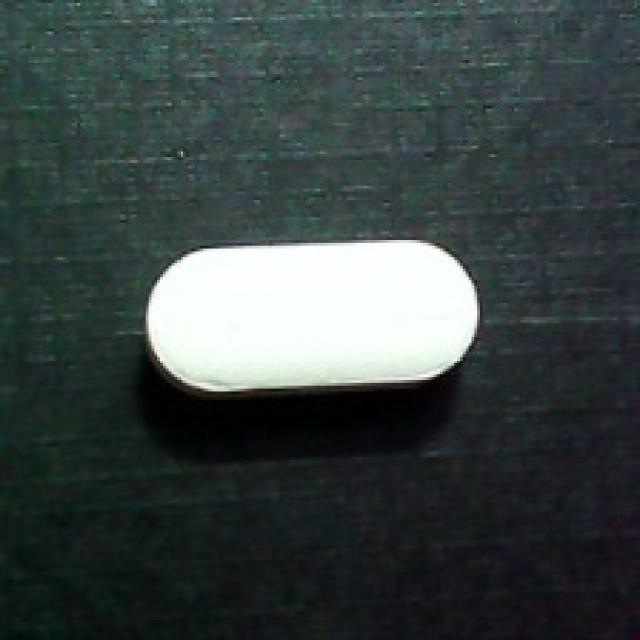no-defect: (140, 237, 483, 409)
